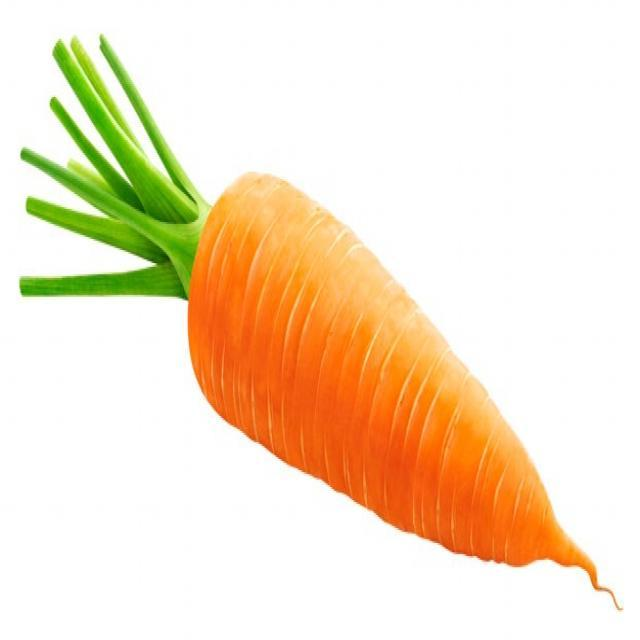carrot: (172, 165, 611, 618)
